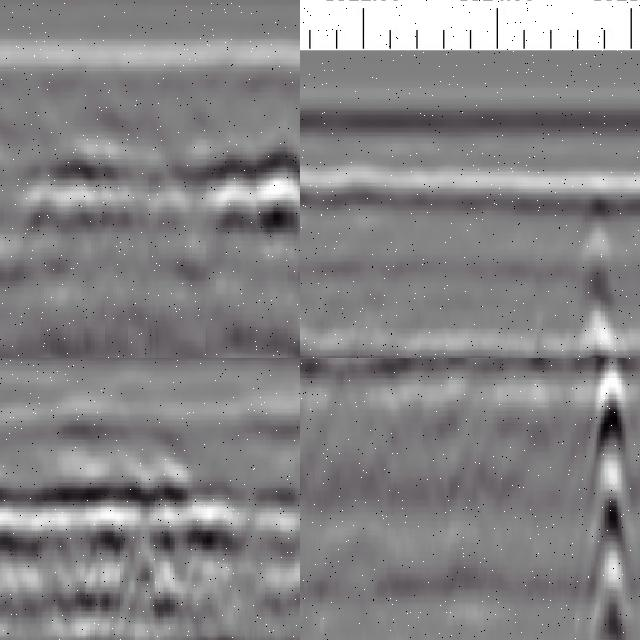crack: (596, 359, 627, 640), (576, 176, 622, 359)
loose: (1, 463, 292, 640), (34, 124, 301, 242)
